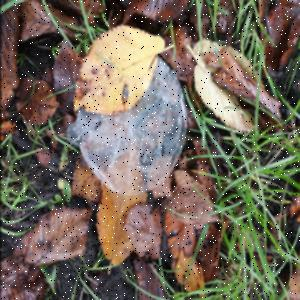Trash: (65, 51, 188, 198)
